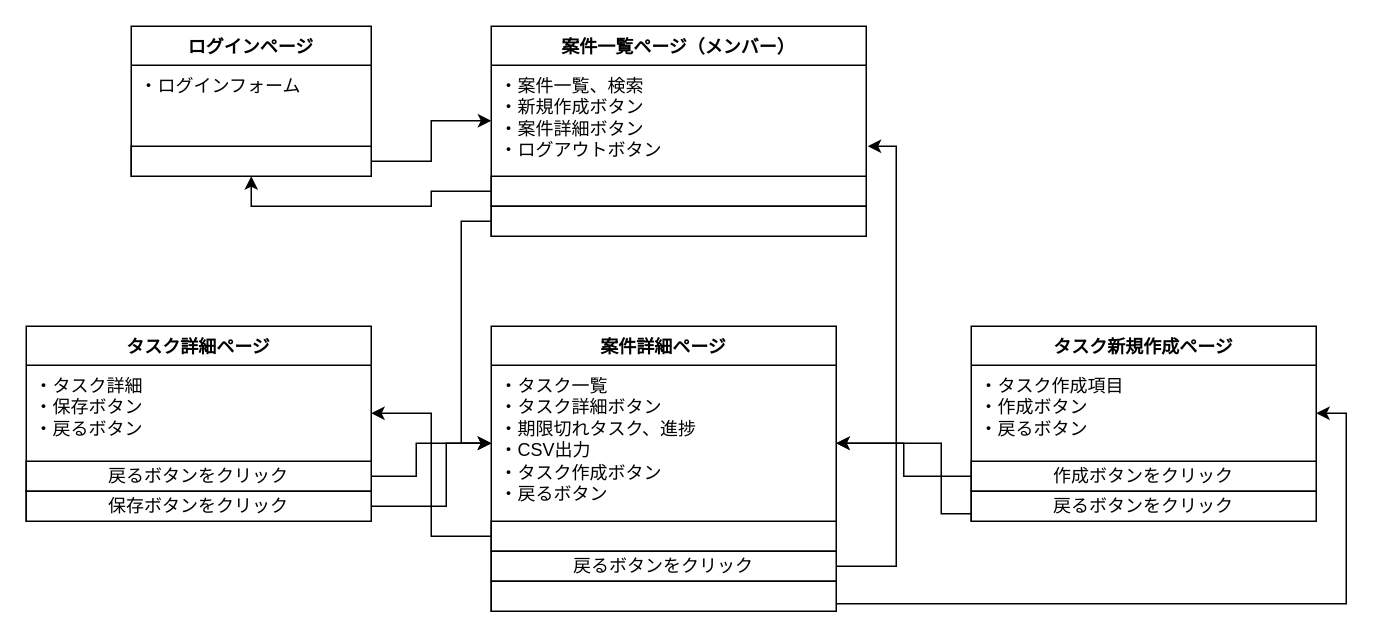
Some shapes in this 1385 by 642 pixel diagram are drawn without their labels. The shapes that lost their labels are listed below. From the top down, each one's centre as x and y in pixels, then its label:
(x=250, y=160): ログイン
(x=678, y=190): ロブアウトボタンをクリック
(x=678, y=220): 案件詳細ボタンをクリック
(x=663, y=535): タスク詳細ボタンをクリック
(x=663, y=595): タスク作成ボタンをクリック
